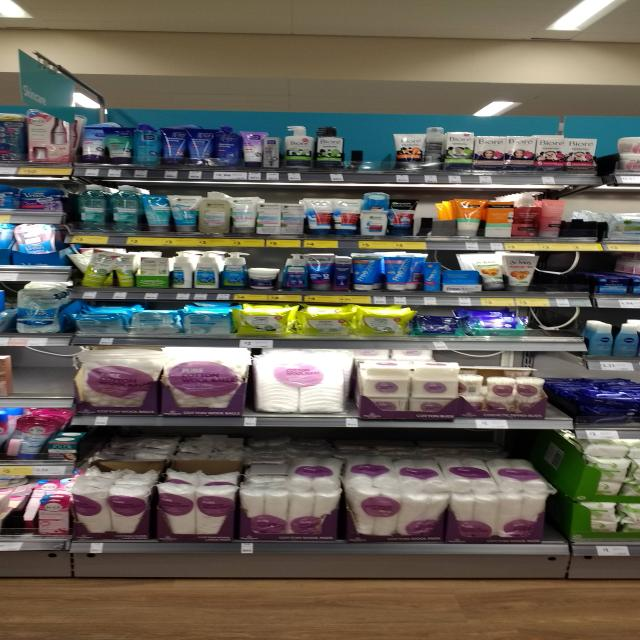unorganised: (72, 243, 136, 288), (473, 252, 503, 293), (168, 248, 195, 291), (424, 124, 445, 168), (331, 254, 351, 289), (459, 374, 486, 395)
